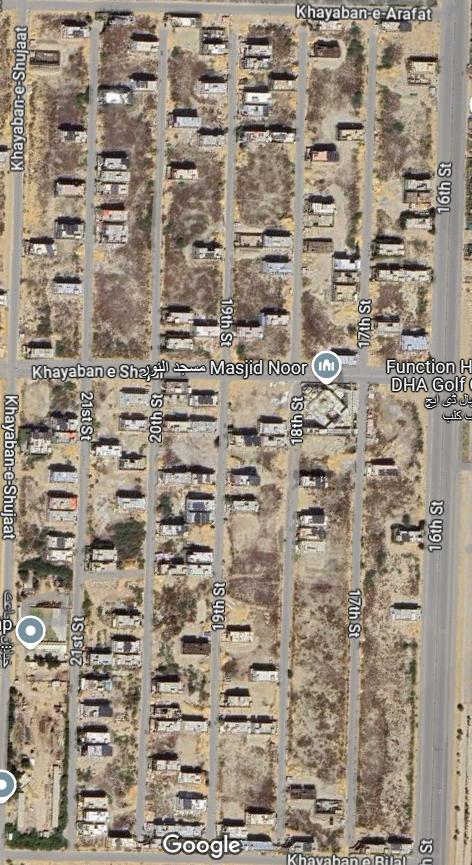Buildings: (280, 376, 355, 847), (215, 386, 287, 838), (355, 383, 423, 842), (79, 375, 147, 833), (10, 376, 77, 836), (146, 376, 211, 839), (23, 14, 85, 359), (165, 16, 226, 356), (98, 16, 159, 353), (301, 20, 359, 361), (235, 16, 291, 365), (371, 21, 429, 356)
